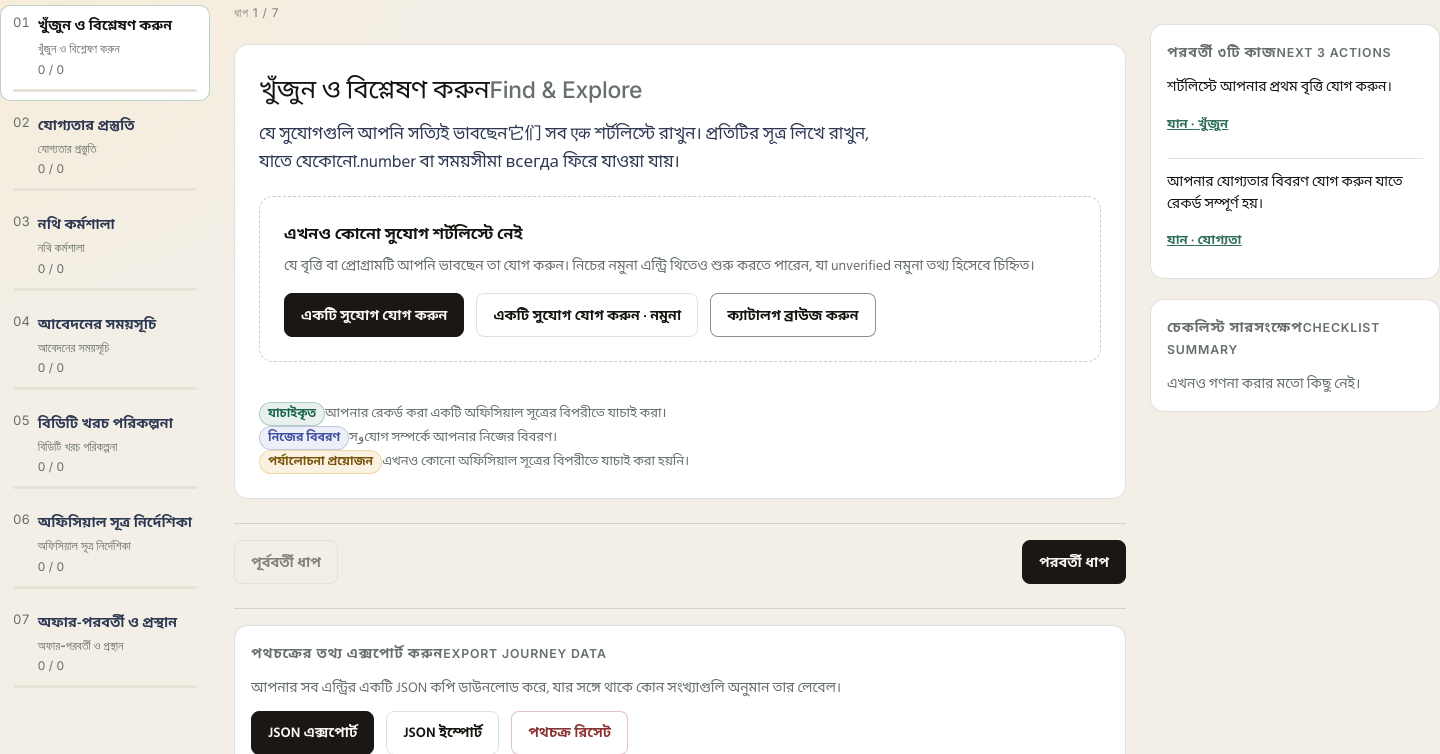
Scenario: JourneyProvider lifecycle: step navigation preserves provider › keeps JourneyProvider mounted and state intact when navigating between steps
(page scrolled)
Click the button "05 বিডিটি খরচ পরিকল্পনা বিডিটি খরচ পরিকল্পনা 0 / 0" at (105, 451), box [0,403,210,498]
(page scrolled)
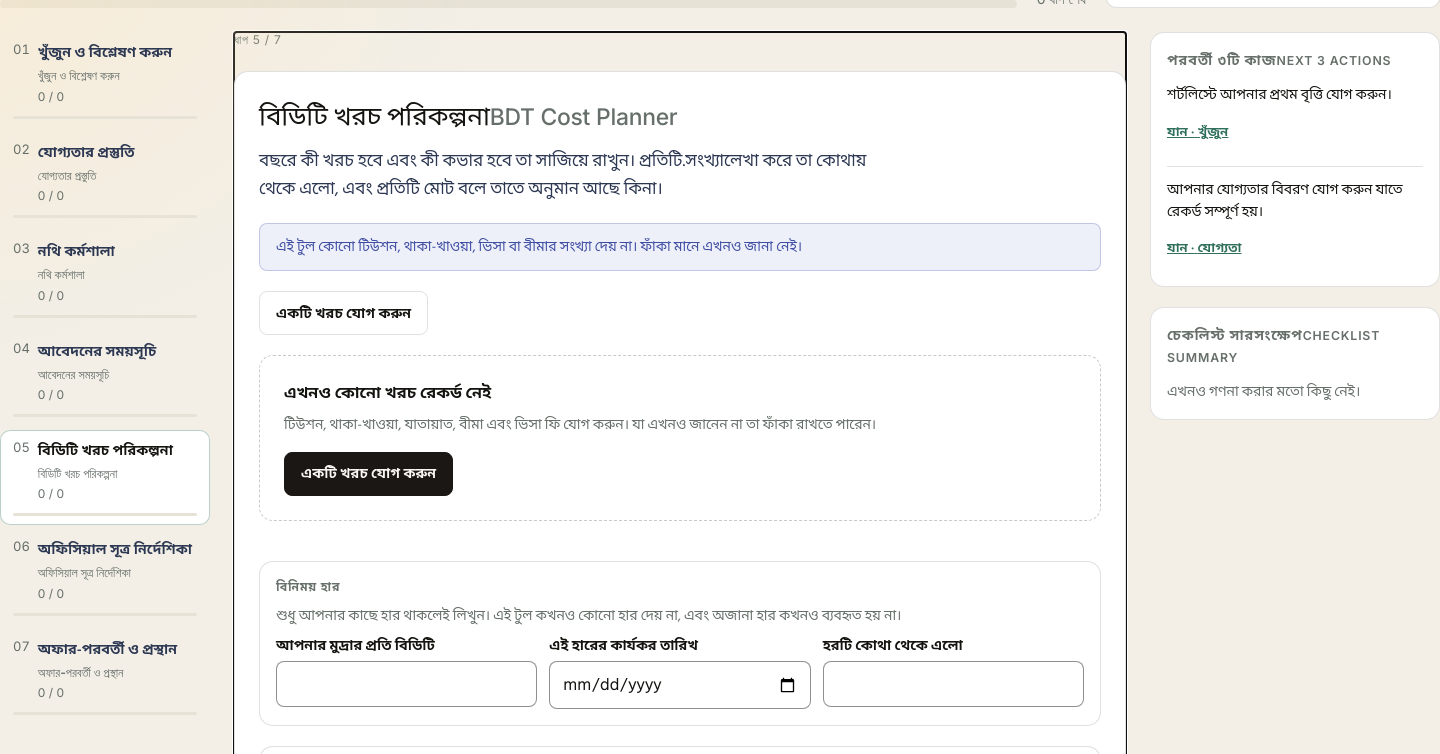
Check: the progress indicator is shown, box [0,0,1017,8]
Check: the 1st button "একটি খরচ যোগ করুন" is shown
Click the 1st button "একটি খরচ যোগ করুন" at (344, 313), box [259,291,428,335]
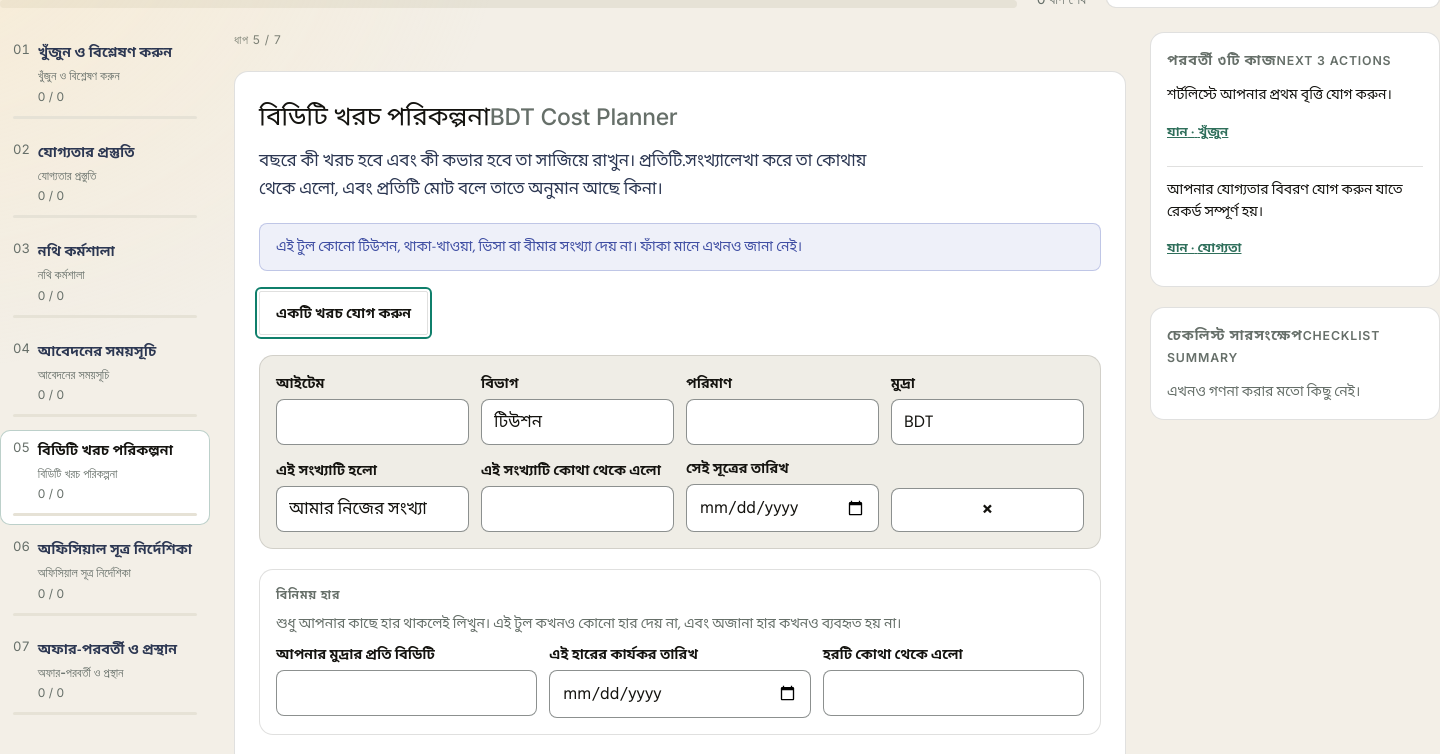
Type "Nav Cost" into the field labelled "আইটেম" at (372, 422), box [276,399,469,445]
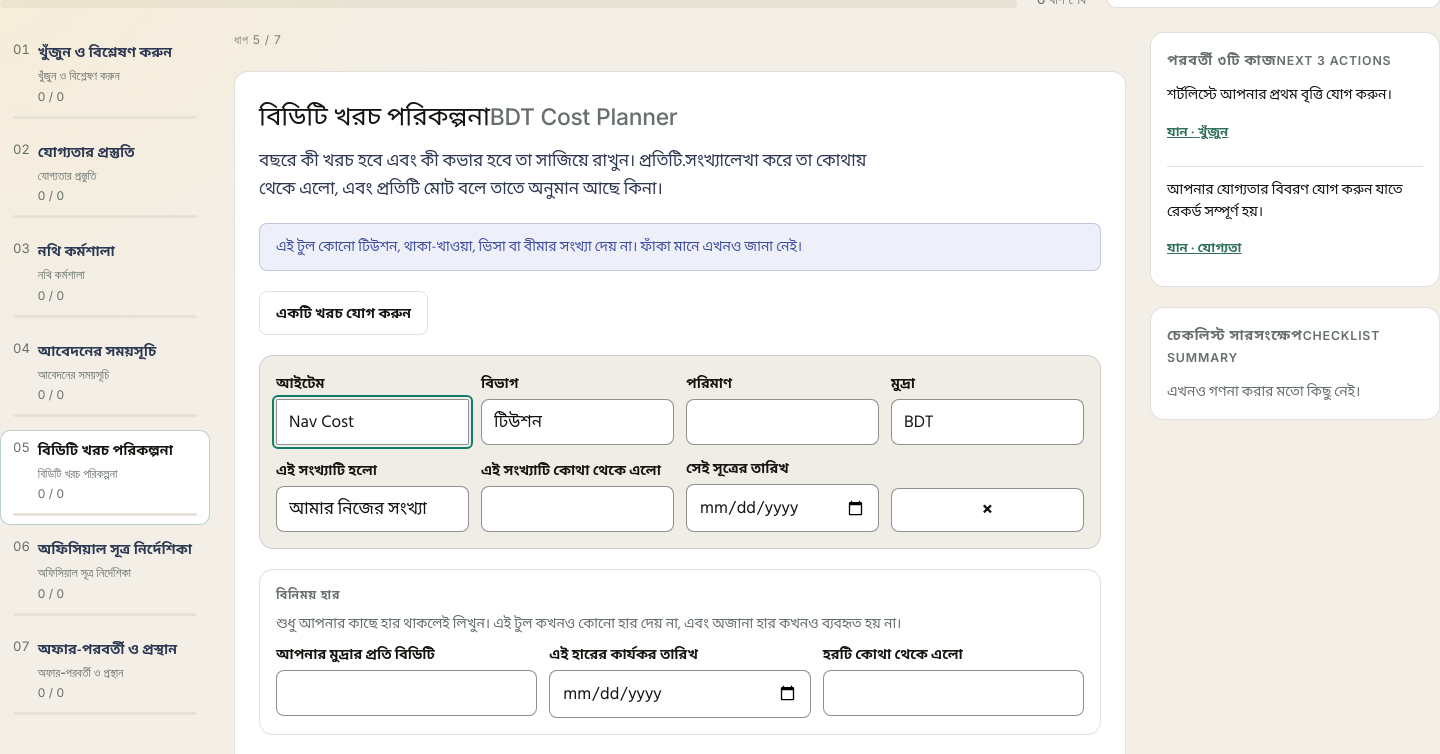
Click the button "03 নথি কর্মশালা নথি কর্মশালা 0 / 0" at (105, 279), box [0,231,210,326]
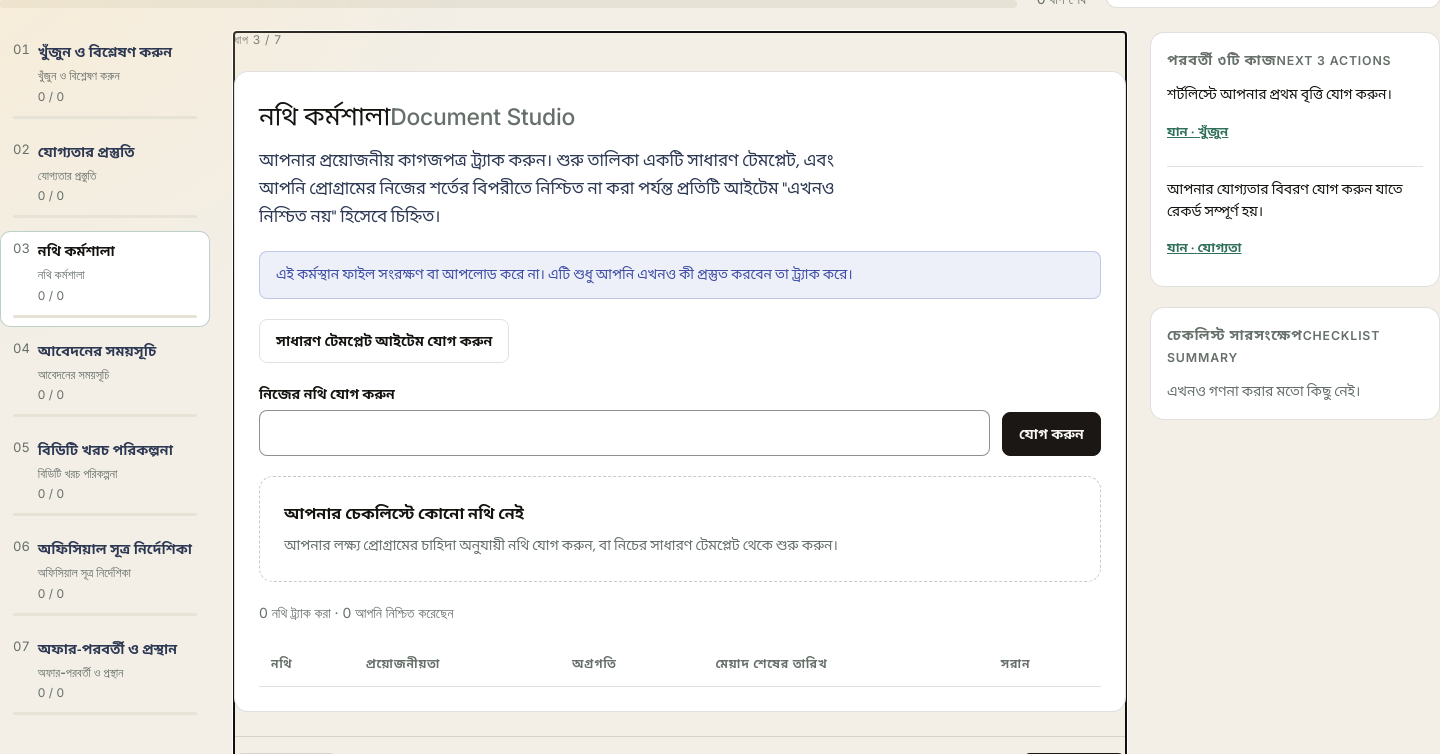
Check: the button "03 নথি কর্মশালা নথি কর্মশালা 0 / 0" is marked as current, box [0,231,210,326]
Click the button "05 বিডিটি খরচ পরিকল্পনা বিডিটি খরচ পরিকল্পনা 0 / 0" at (105, 478), box [0,430,210,525]
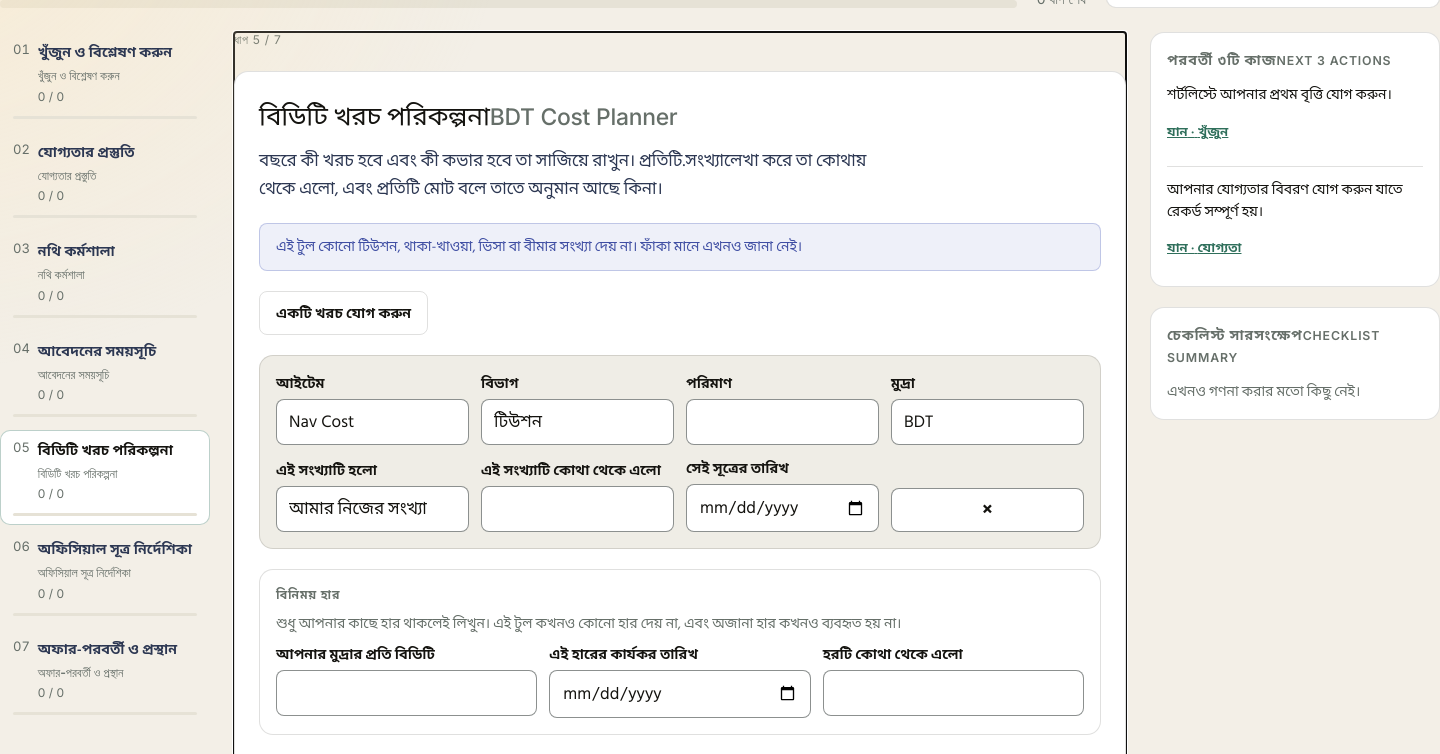
Check: the progress indicator is shown, box [0,0,1017,8]
Check: the button "একটি খরচ যোগ করুন" is shown, box [259,291,428,335]
